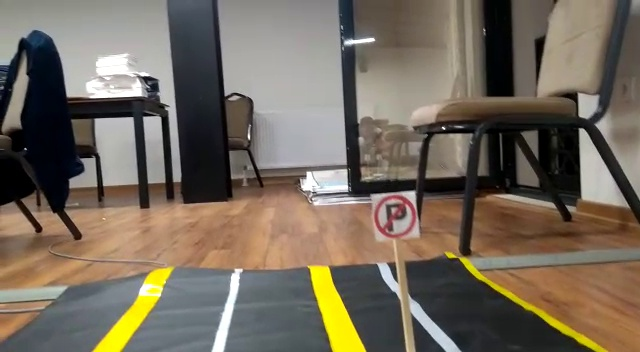park_yapilmaz: (370, 195, 416, 238)
